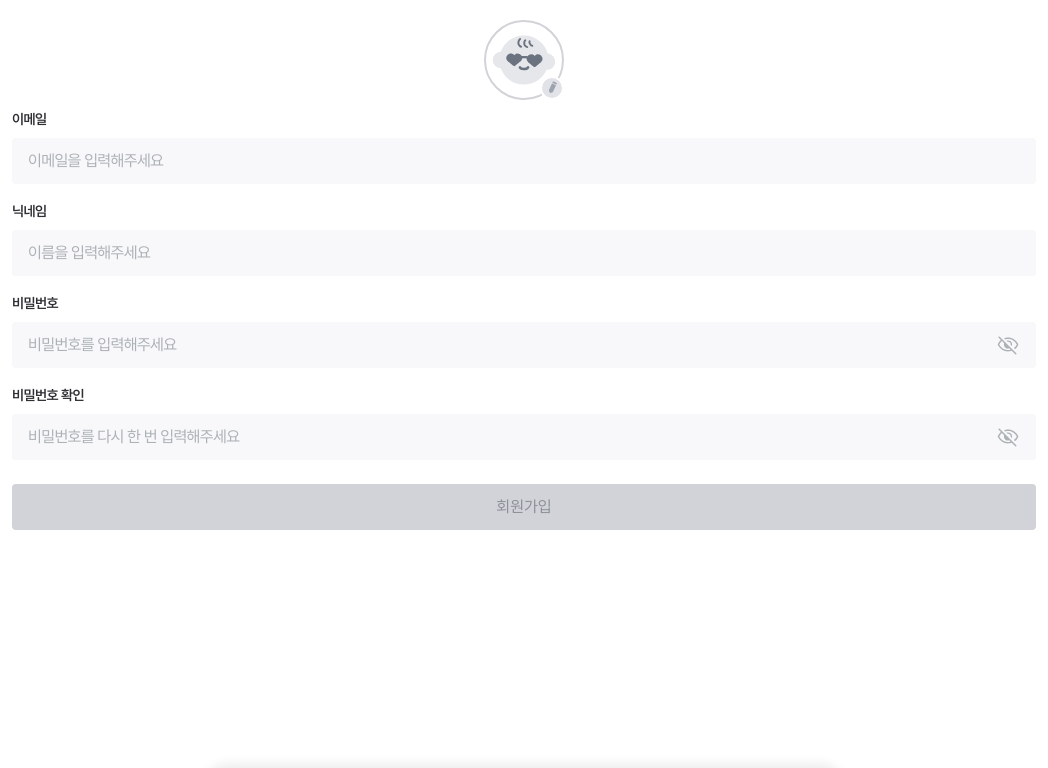
SignupForm › 이메일을 잘못 입력하면 "이메일 형식으로 입력해주세요" 라는 에러 메시지 확인
This screenshot has width=1048, height=768.
Type "test" into the field with placeholder "이메일을 입력해주세요" at (524, 161), box top-left (12, 138), bottom-right (1036, 184)
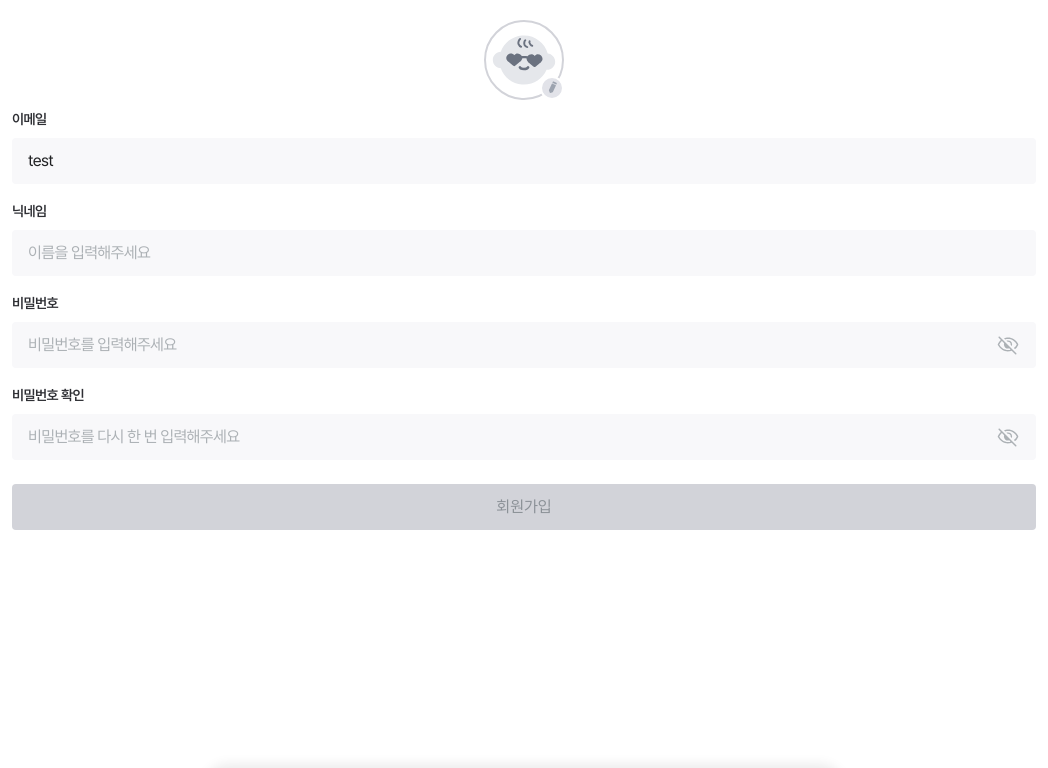
Type "테스트" into the field with placeholder "이름을 입력해주세요" at (524, 253), box top-left (12, 230), bottom-right (1036, 276)
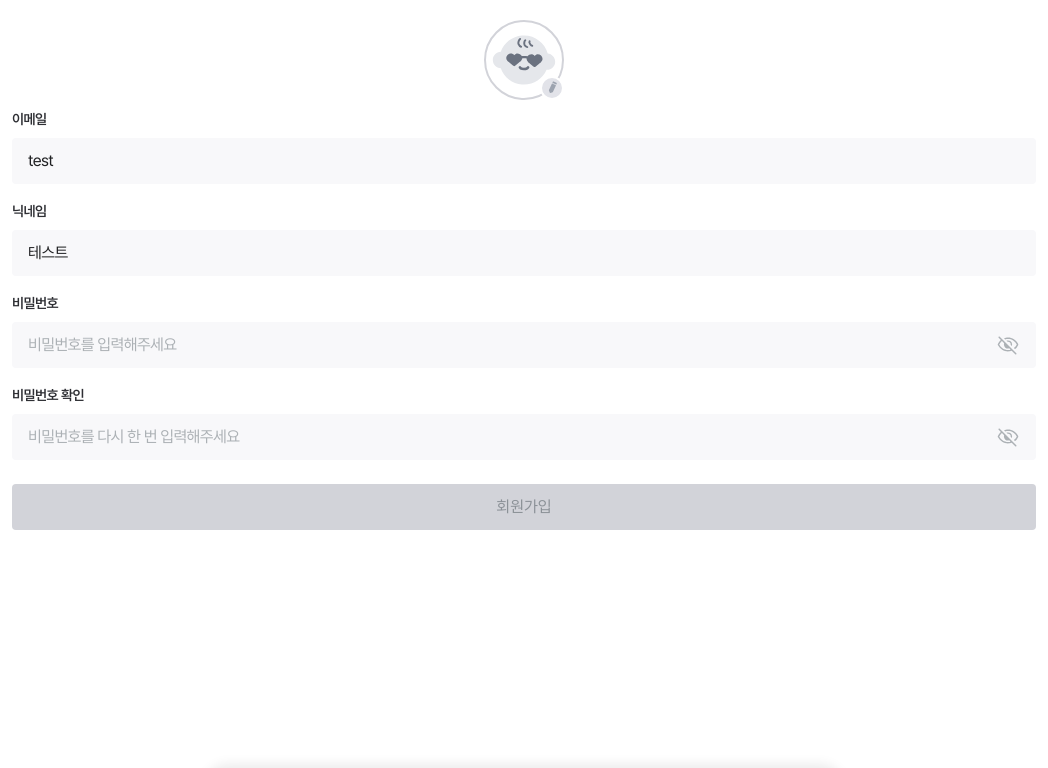
Type "password123!" into the password field with test id "password-input" at (524, 345), box top-left (12, 322), bottom-right (1036, 368)
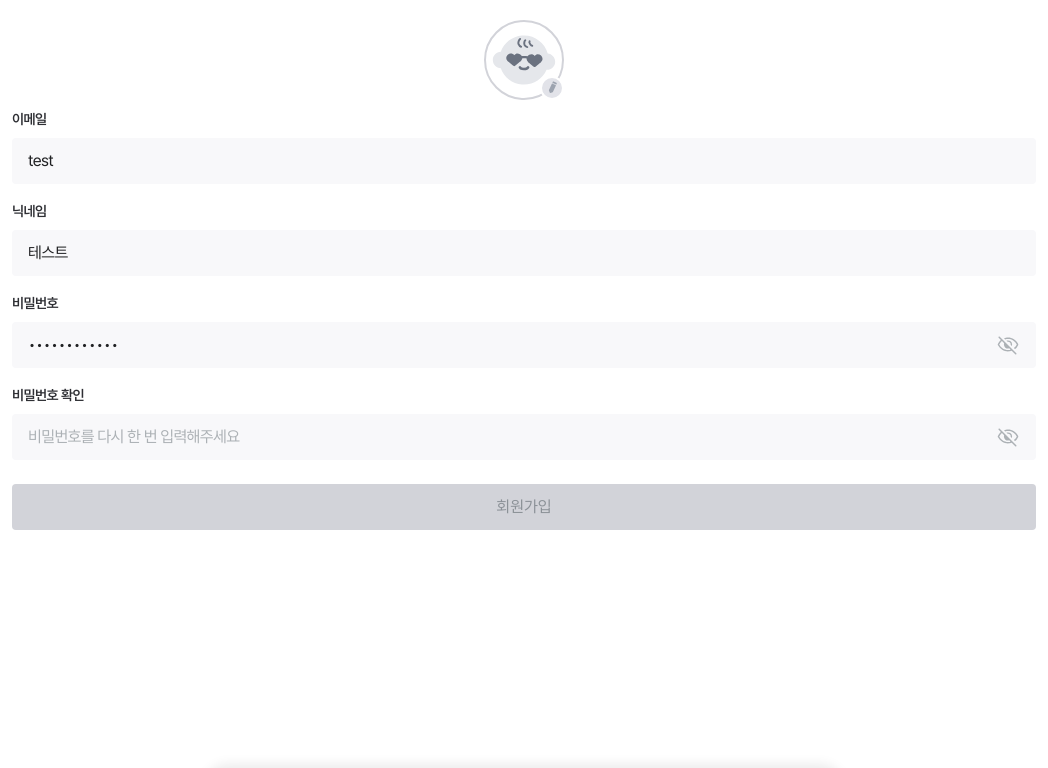
Type "password123!" into the password field with test id "password-confirm-input" at (524, 437), box top-left (12, 414), bottom-right (1036, 460)
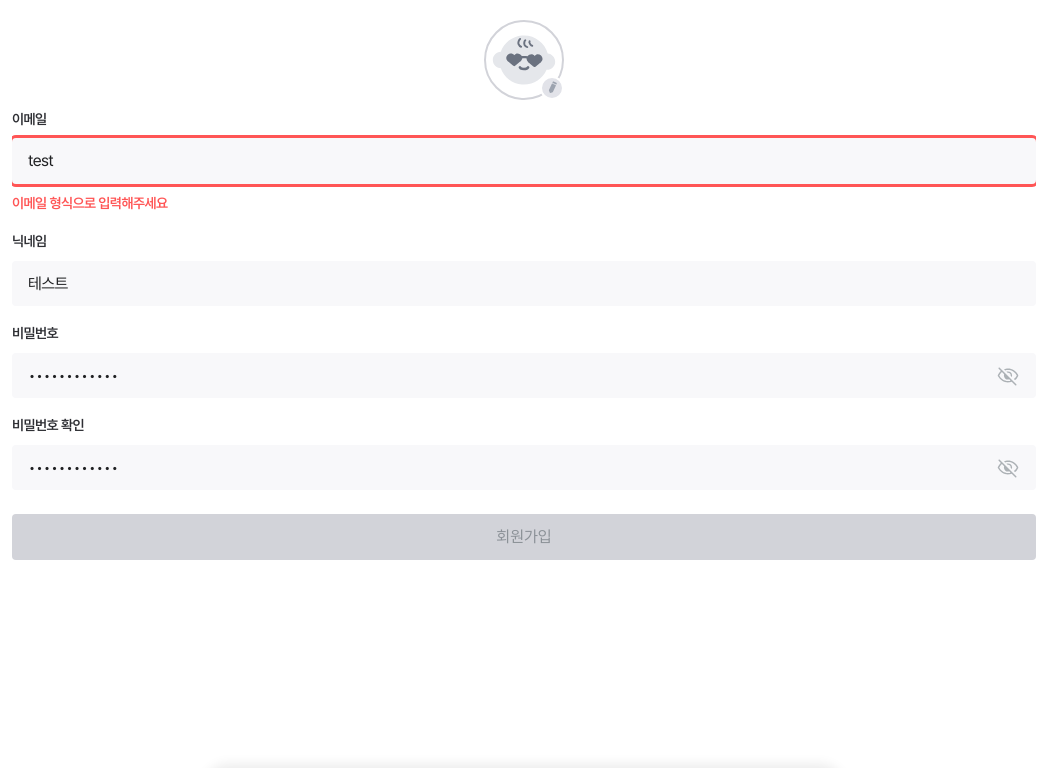
Expected: the text "이메일 형식으로 입력해주세요" is shown, top-left (12, 195), bottom-right (168, 211)
